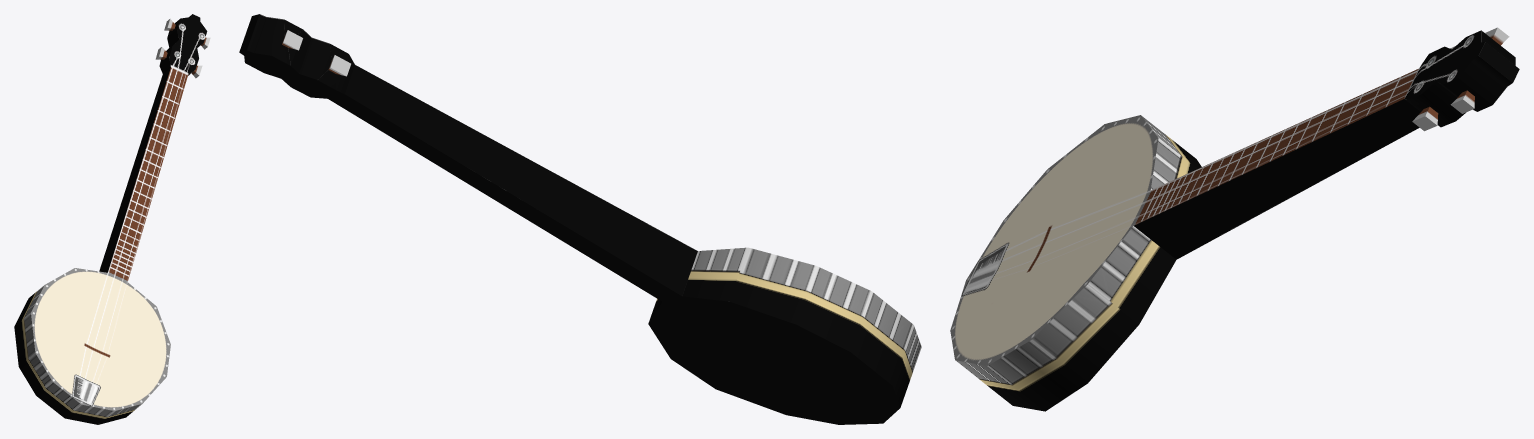
The model's file is Guitarra1_000016.obj.
The picture shows the model from 3 angles, left to right: view 1: azimuth 30°, elevation 25°; view 2: azimuth 150°, elevation 25°; view 3: azimuth 270°, elevation 25°; orthographic projection. The views are drawn at different scales.
Visible parts, largest first — view 1: g1_pCube6; view 2: g1_pCube6; view 3: g1_pCube6.
Boxes of the visible parts, x1,y1,x2,y2 form: g1_pCube6: (14, 14, 210, 424); g1_pCube6: (239, 14, 921, 424); g1_pCube6: (950, 27, 1519, 411).
Size of the model in its own units: 9.42 by 8.7 by 8.25.
